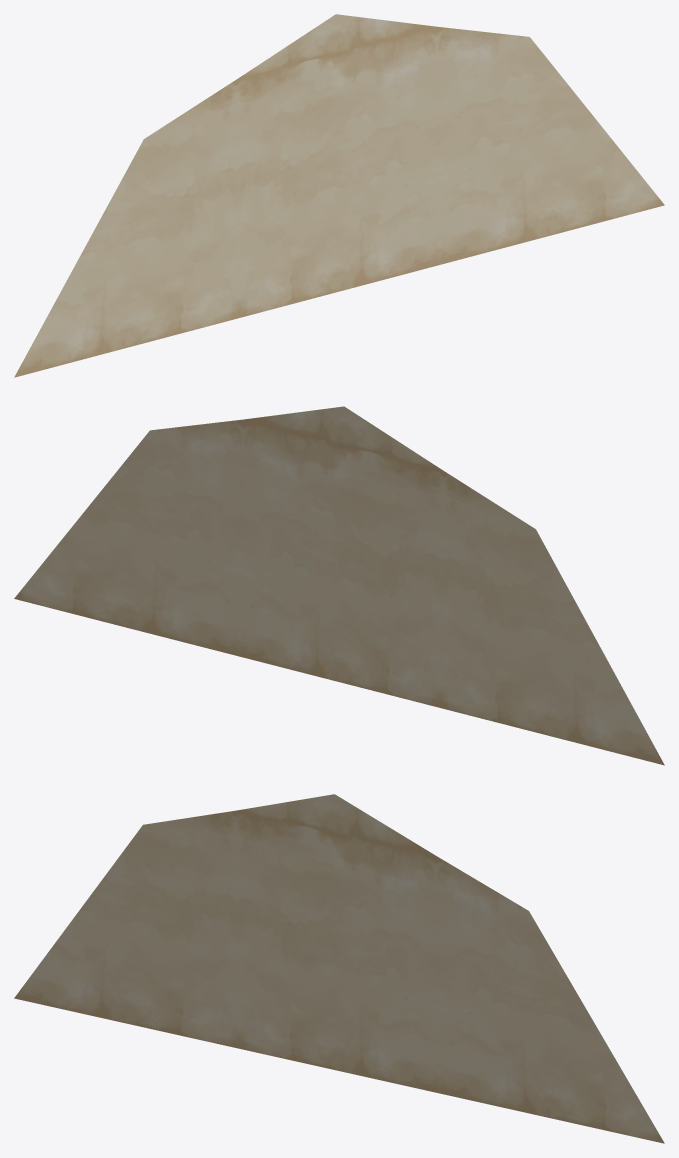
File: catı.fbx
3 views of the same model, one above another, from view 1: azimuth 30°, elevation 25°; view 2: azimuth 150°, elevation 25°; view 3: azimuth 330°, elevation 25° (orthographic).
Visible parts, largest first — view 1: catı_ek; view 2: catı_ek; view 3: catı_ek.
Boxes of the visible parts, x1=… form: catı_ek: x1=14, y1=14, x2=664, y2=377; catı_ek: x1=14, y1=406, x2=664, y2=765; catı_ek: x1=14, y1=794, x2=664, y2=1143.
Bounding box in the file's own units: 1418 × 589 × 10.84.
1 material, 1 textured.
